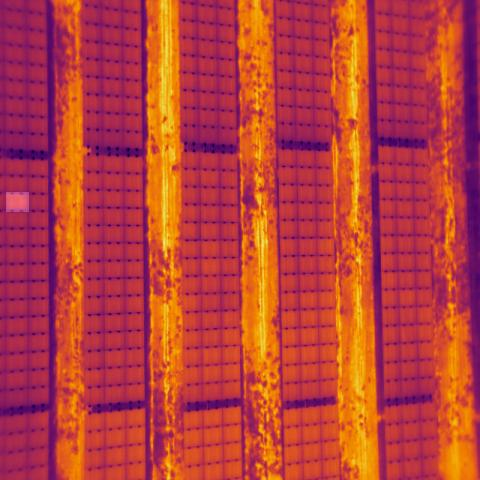fault: (6, 192, 29, 212)
